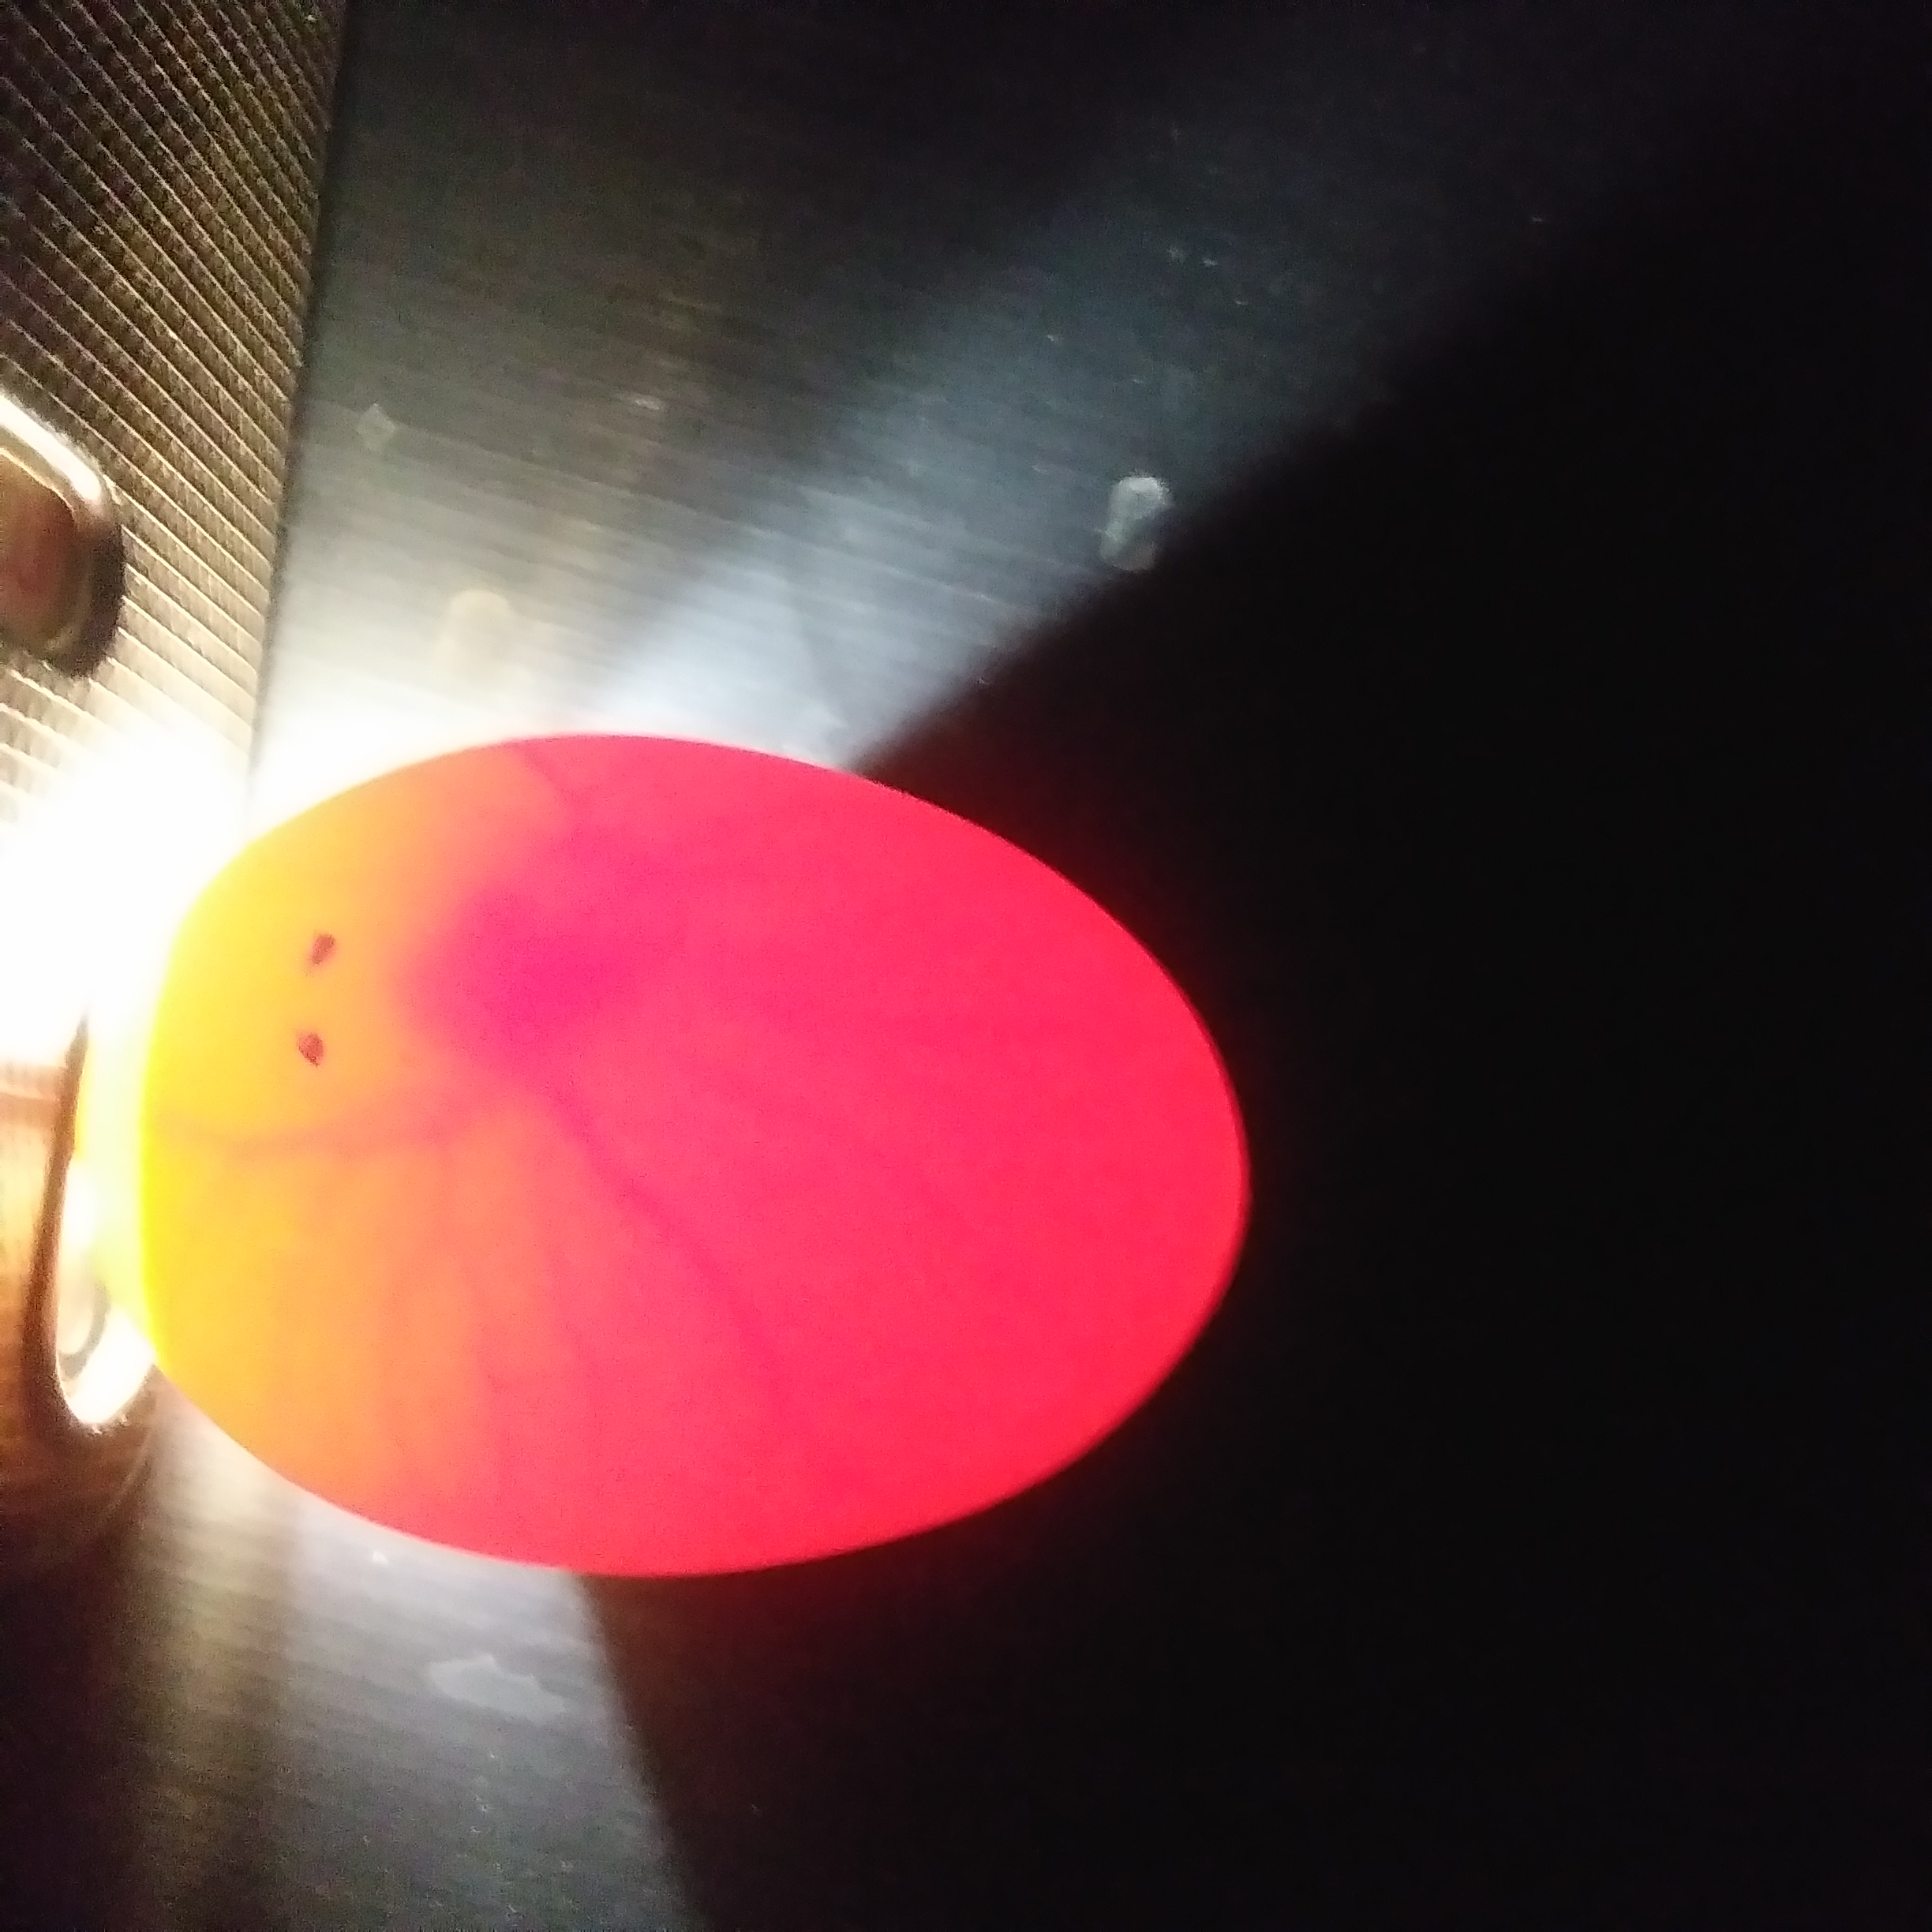bloodcell: (205, 1120, 846, 1398)
embryo: (382, 893, 626, 1077)
